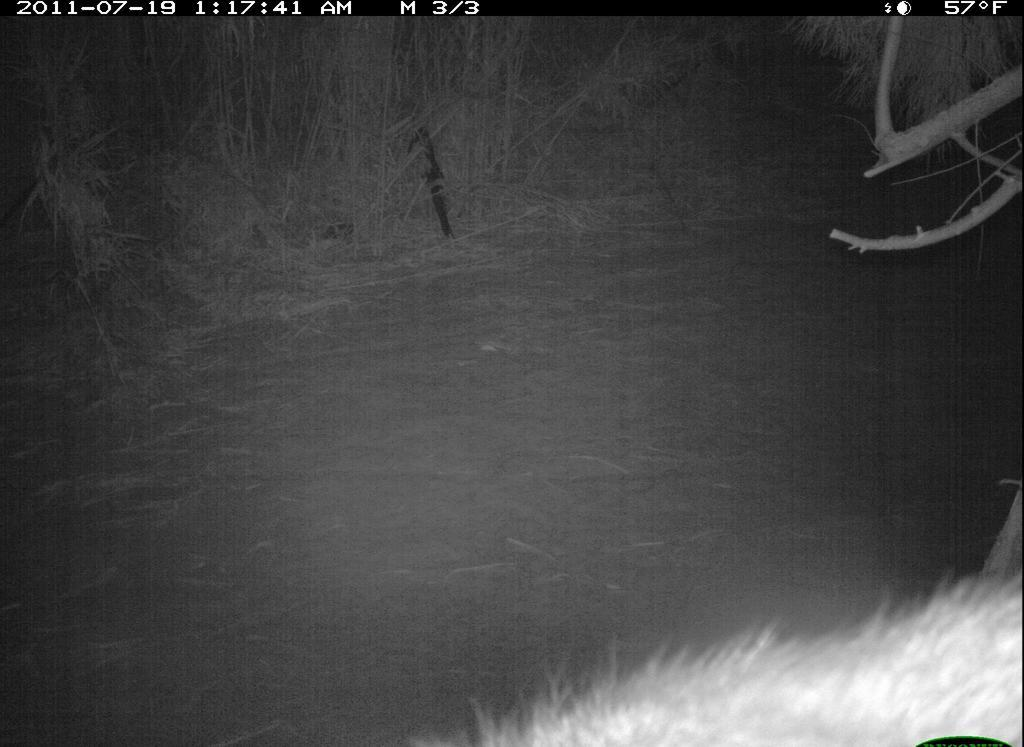raccoon: (404, 556, 1023, 747)
